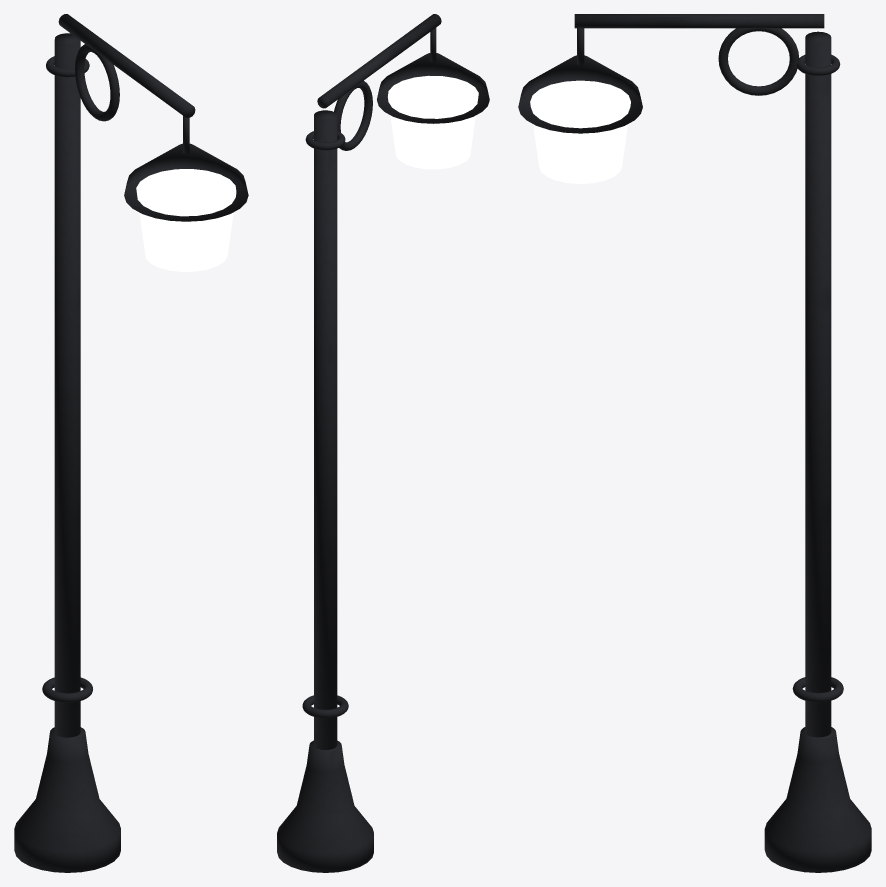
The model's file is StreetLamp.glb.
The picture shows the model from 3 angles, left to right: view 1: azimuth 30°, elevation 25°; view 2: azimuth 150°, elevation 25°; view 3: azimuth 270°, elevation 25°; orthographic projection. The views are drawn at different scales.
Visible parts, largest first — view 1: StreetLamp_PlasticDark, StreetLamp_PlasticWhite_glow; view 2: StreetLamp_PlasticDark, StreetLamp_PlasticWhite_glow; view 3: StreetLamp_PlasticDark, StreetLamp_PlasticWhite_glow.
Part boxes in pixels (x1=…): StreetLamp_PlasticDark: x1=14, y1=14, x2=248, y2=872; StreetLamp_PlasticWhite_glow: x1=136, y1=169, x2=236, y2=271; StreetLamp_PlasticDark: x1=277, y1=14, x2=489, y2=872; StreetLamp_PlasticWhite_glow: x1=388, y1=75, x2=478, y2=169; StreetLamp_PlasticDark: x1=518, y1=14, x2=871, y2=872; StreetLamp_PlasticWhite_glow: x1=530, y1=80, x2=630, y2=183.
Bounding box in the file's own units: 2.1 × 15.52 × 5.95.
2 materials, 2 textured.
